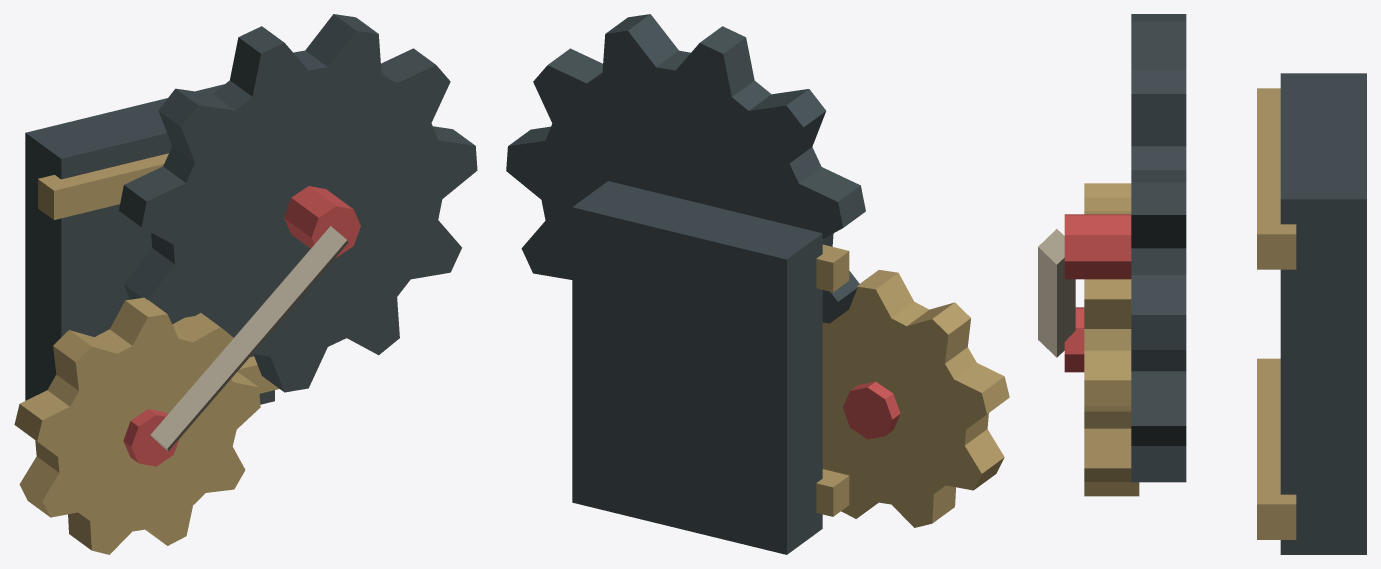
File: Equip_SawGear.fbx
The picture shows the model from 3 angles, left to right: view 1: azimuth 30°, elevation 25°; view 2: azimuth 150°, elevation 25°; view 3: azimuth 270°, elevation 25°; orthographic projection. The views are drawn at different scales.
Visible parts, largest first — view 1: Equip_SawGear; view 2: Equip_SawGear; view 3: Equip_SawGear.
Part boxes in pixels (x1,y1,x2,y2): Equip_SawGear: [14, 14, 477, 554]; Equip_SawGear: [506, 14, 1009, 554]; Equip_SawGear: [1038, 14, 1366, 554].
Size of the model in its own units: 0.4085 by 0.387 by 0.2095.
